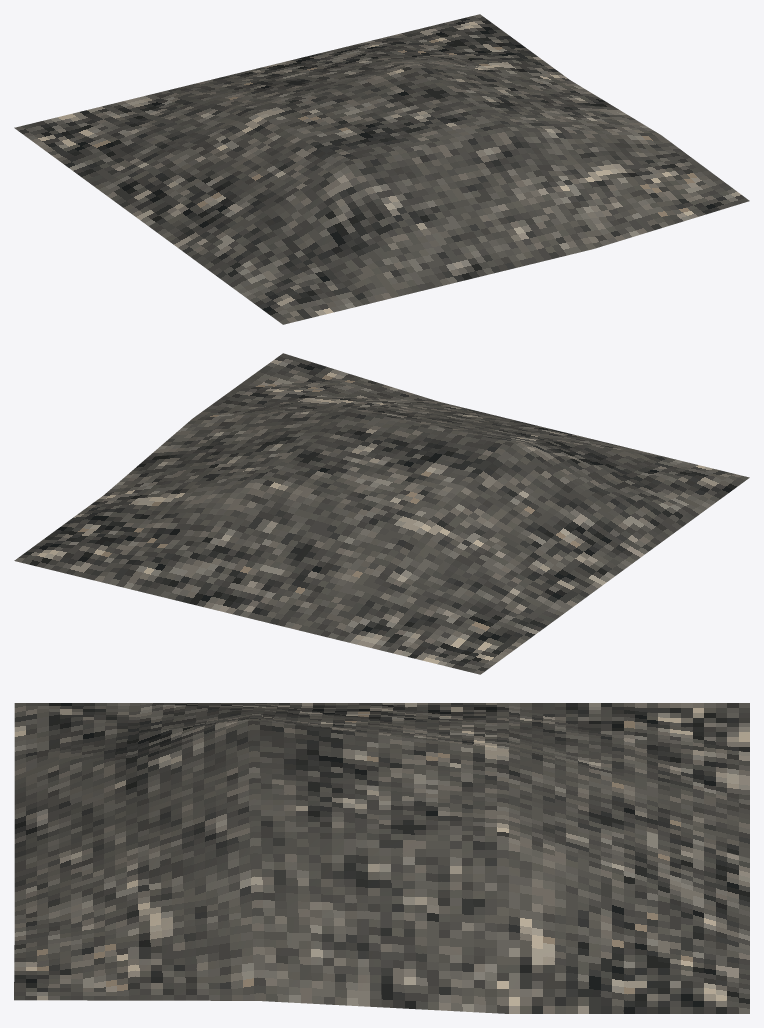
Rendered from rubble0.fbx.
3 views of the same model, one above another, from view 1: azimuth 30°, elevation 25°; view 2: azimuth 150°, elevation 25°; view 3: azimuth 270°, elevation 25° (orthographic). The views are drawn at different scales.
Visible parts, largest first — view 1: rubble0; view 2: rubble0; view 3: rubble0.
Part boxes in pixels (x1,y1,x2,y2): rubble0: (14, 14, 749, 324); rubble0: (14, 353, 749, 674); rubble0: (14, 703, 749, 1013).
Size of the model in its own units: 201 by 200 by 25.16.
1 material, 1 textured.
